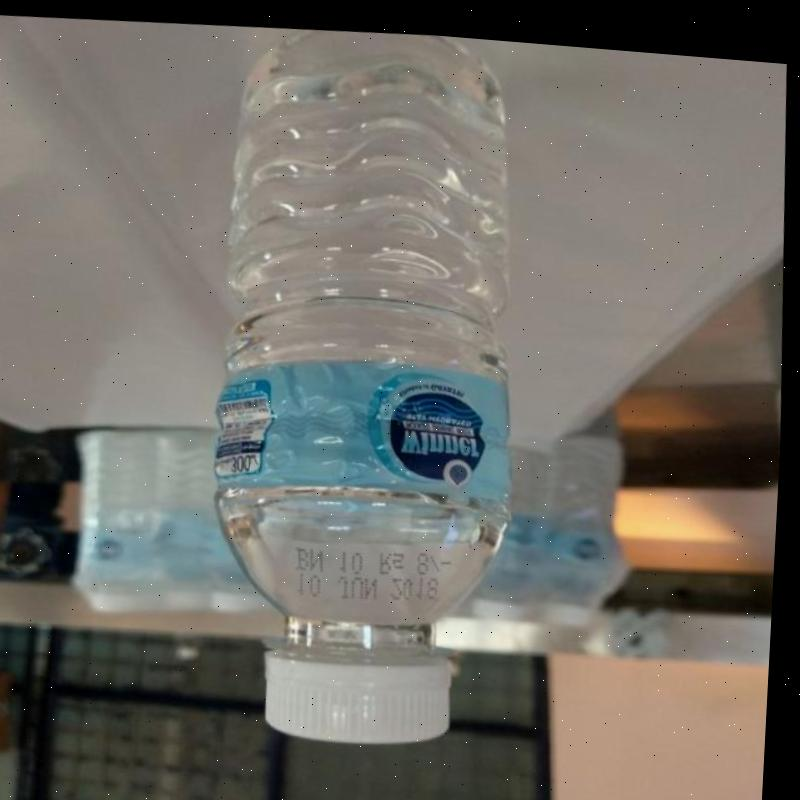botella: (189, 14, 542, 751)
